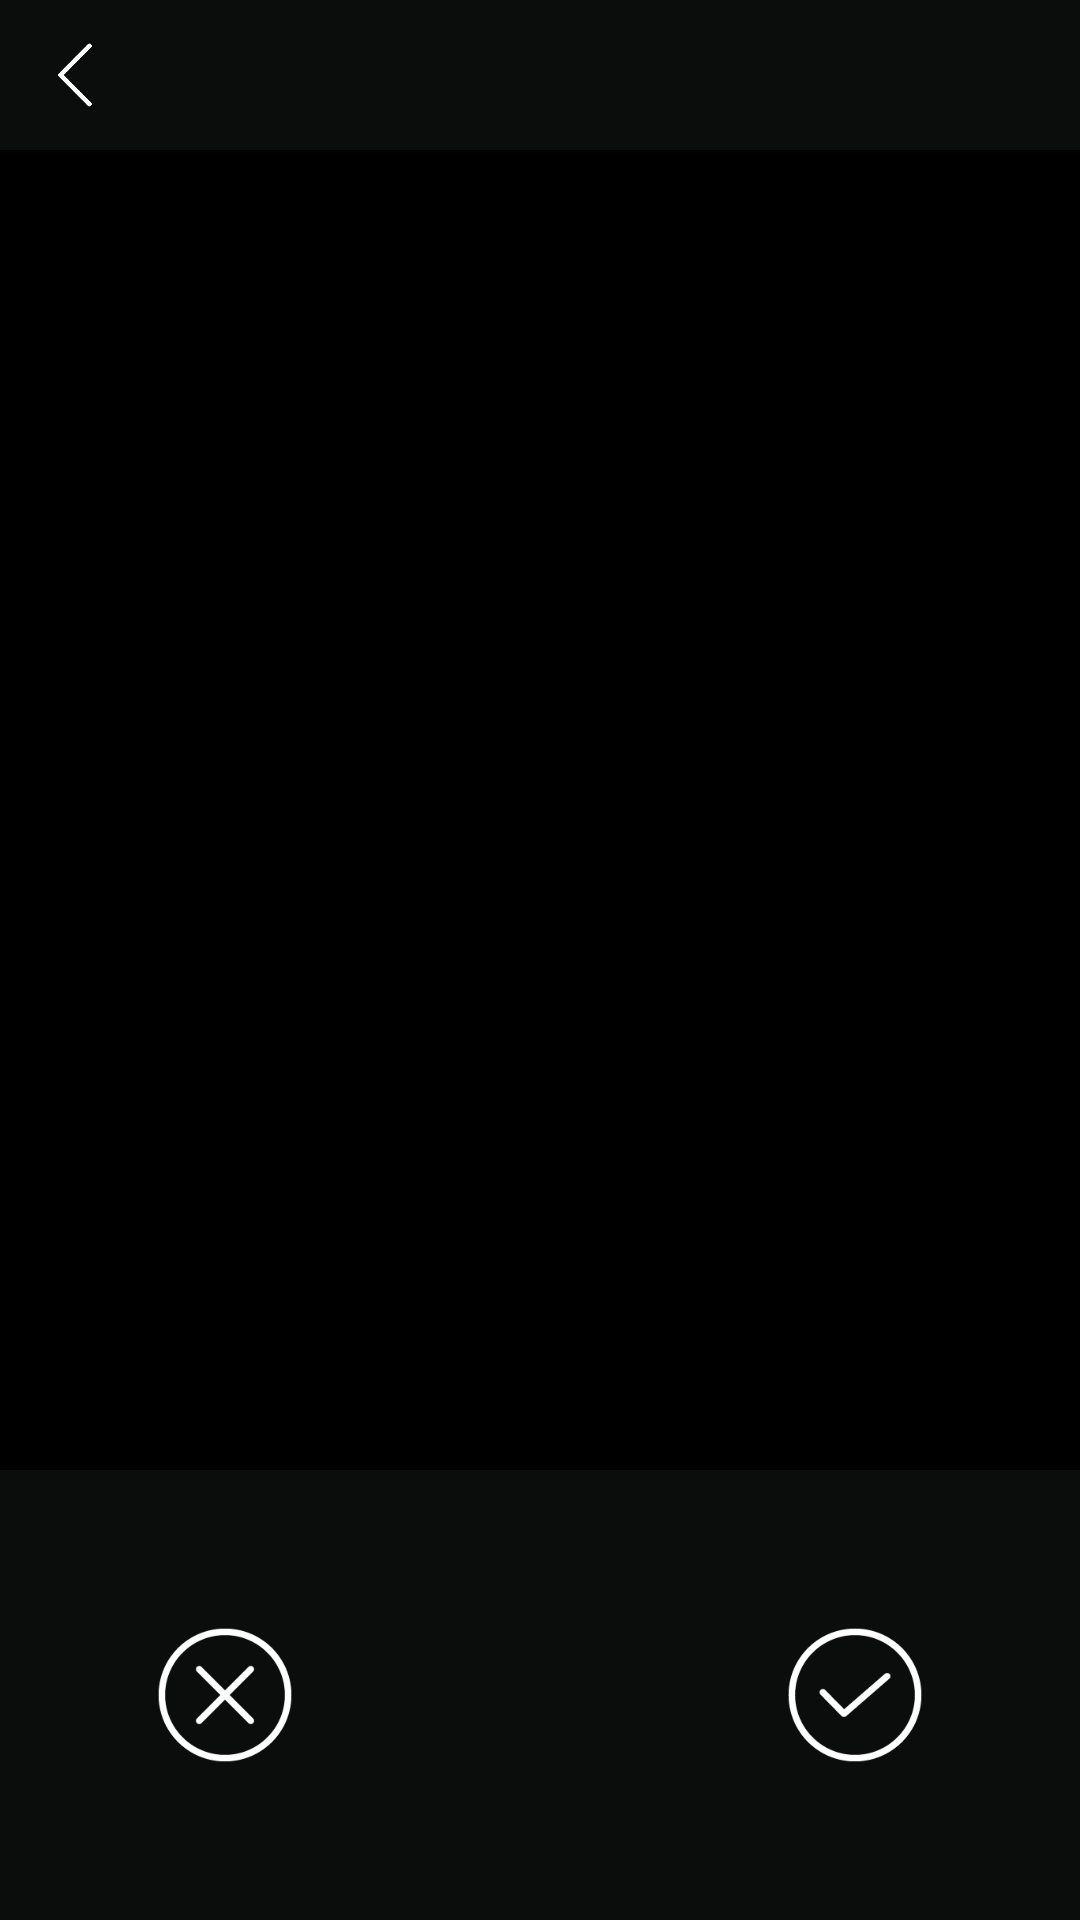

Icon click points for this 1080 x 1920 phone screenshot, format (x=x, y=y):
back night: (x=75, y=75)
camera cancel: (x=225, y=1695)
camera confirm: (x=855, y=1695)
